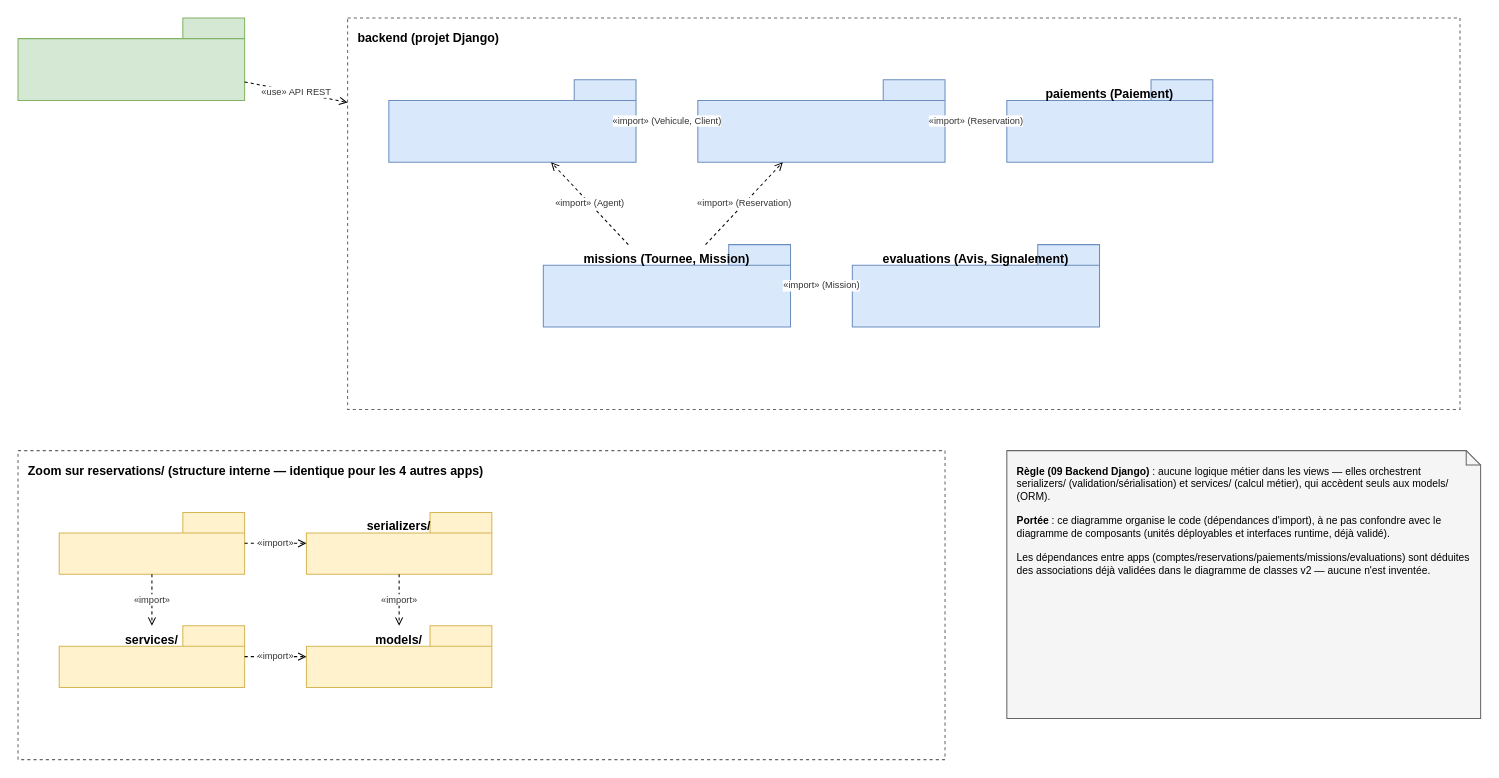
Some shapes in this 1499 by 778 pixel diagram are drawn without their labels. The centre of each missing label's shape, as x and y in pixels:
"comptes (Client, Vehicule, Zone, Agent)" belongs at (x=512, y=120).
"mobile (Flutter)" belongs at (x=131, y=58).
"reservations (Reservation, Abonnement)" belongs at (x=821, y=120).
"views/" belongs at (x=151, y=542).
